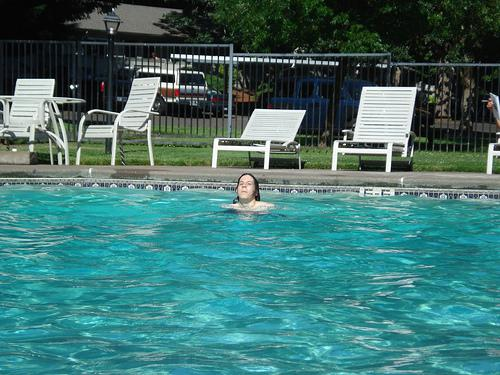swimmer: (220, 170, 272, 214)
